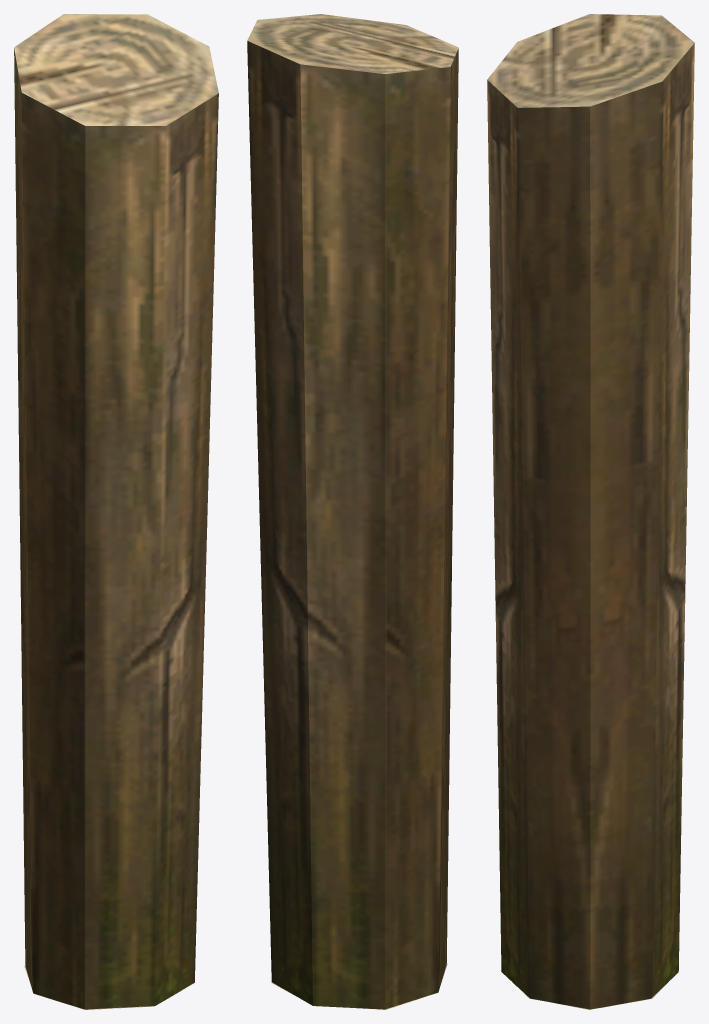
The model's file is muzhuang.FBX.
The picture shows the model from 3 angles, left to right: view 1: azimuth 30°, elevation 25°; view 2: azimuth 150°, elevation 25°; view 3: azimuth 270°, elevation 25°; orthographic projection. The views are drawn at different scales.
Parts seen in each view (by area): view 1: 对象004; view 2: 对象004; view 3: 对象004.
Boxes of the visible parts, left/top/right/bottom form: 对象004: left=14, top=14, right=218, bottom=1009; 对象004: left=247, top=14, right=458, bottom=1009; 对象004: left=487, top=14, right=694, bottom=1009.
Size of the model in its own units: 23.56 by 110 by 22.3.
